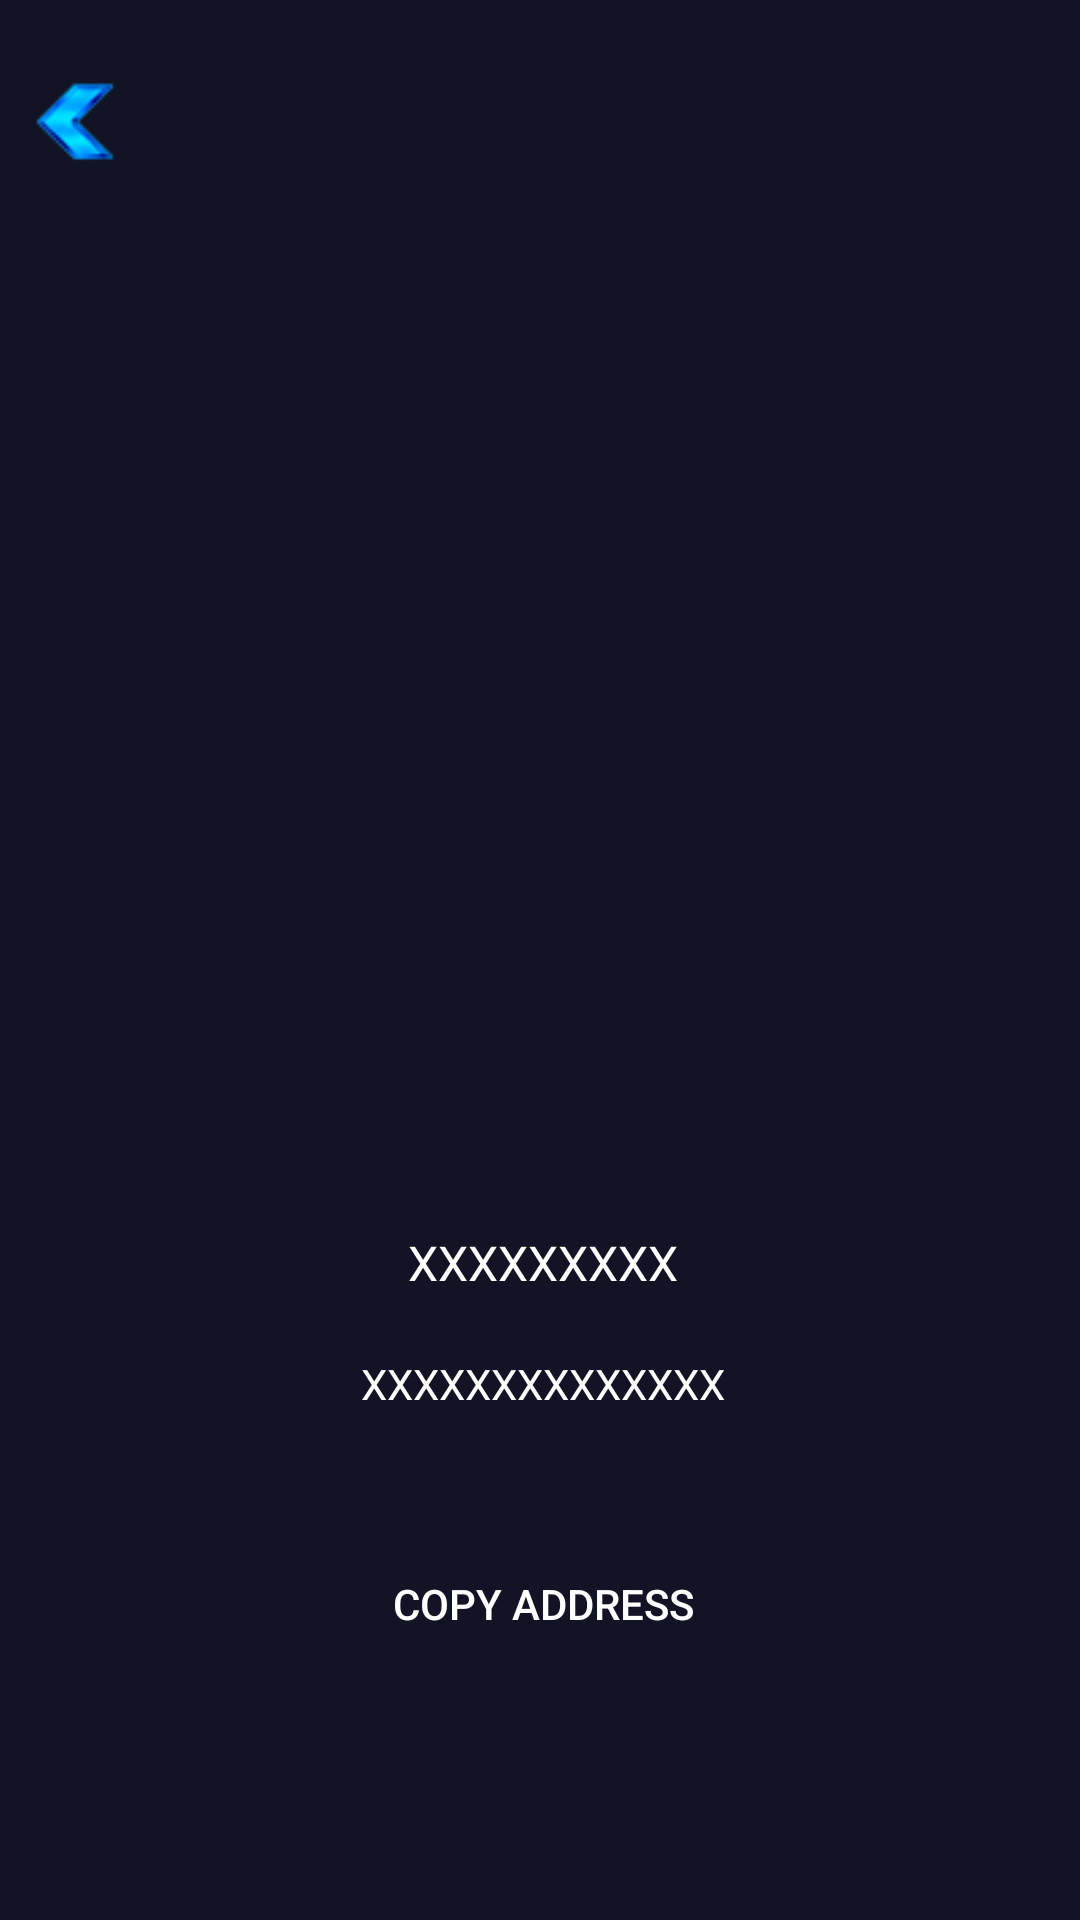

Locate icon controls on the screen. Image size 1080x1920, boxes as bbox(x1, y1, x2, y2).
arrow left: bbox(36, 83, 114, 160)
